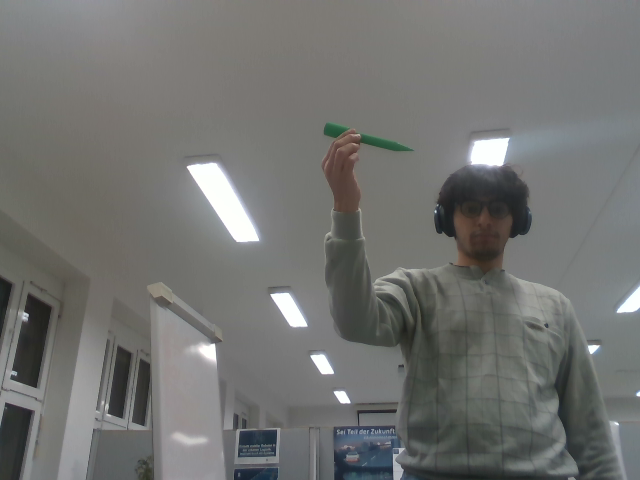Probe: (321, 118, 417, 155)
